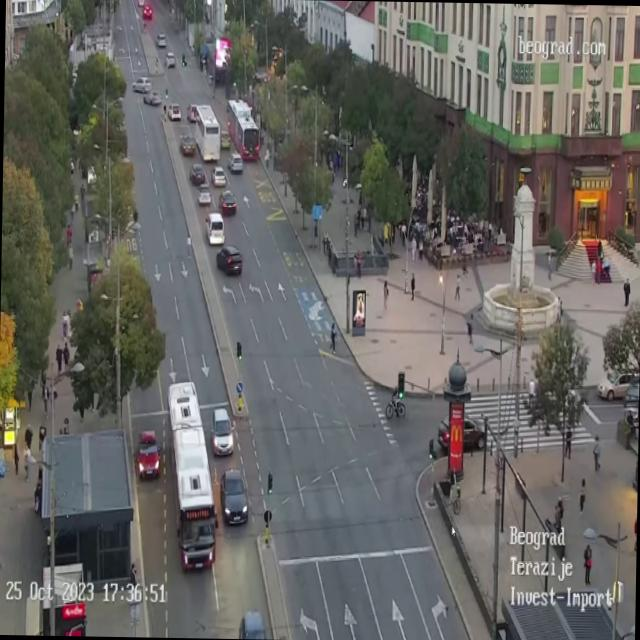bus: (164, 380, 218, 572), (224, 98, 260, 162), (196, 106, 223, 162)
car: (218, 467, 248, 525), (437, 414, 484, 450), (209, 407, 234, 456), (136, 426, 159, 476), (216, 244, 242, 279), (236, 612, 266, 640), (206, 210, 223, 246), (218, 188, 236, 214), (228, 149, 242, 174), (190, 165, 204, 187), (145, 89, 161, 106), (132, 76, 150, 91), (166, 100, 181, 118), (180, 136, 194, 154), (212, 164, 224, 184), (197, 183, 208, 204), (187, 100, 197, 122), (222, 130, 232, 148), (158, 36, 168, 48), (142, 6, 152, 18), (165, 53, 174, 66)
